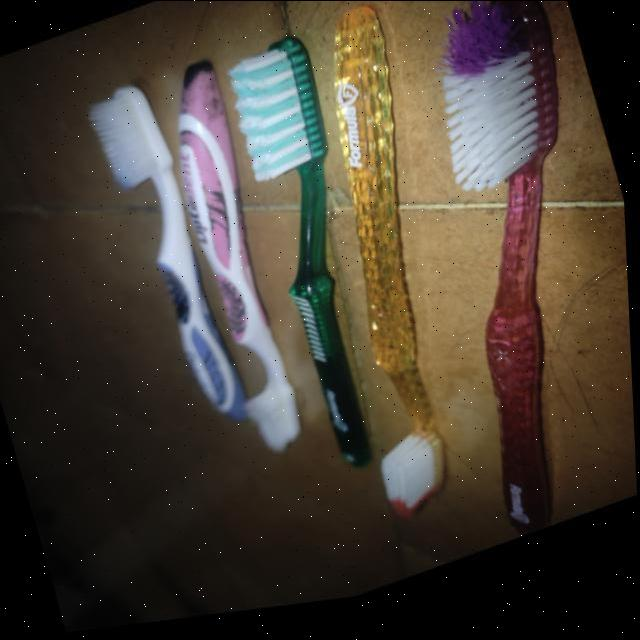toothbrush: (444, 0, 566, 545), (234, 44, 379, 488), (332, 16, 450, 528), (93, 82, 248, 420), (181, 63, 307, 457)
